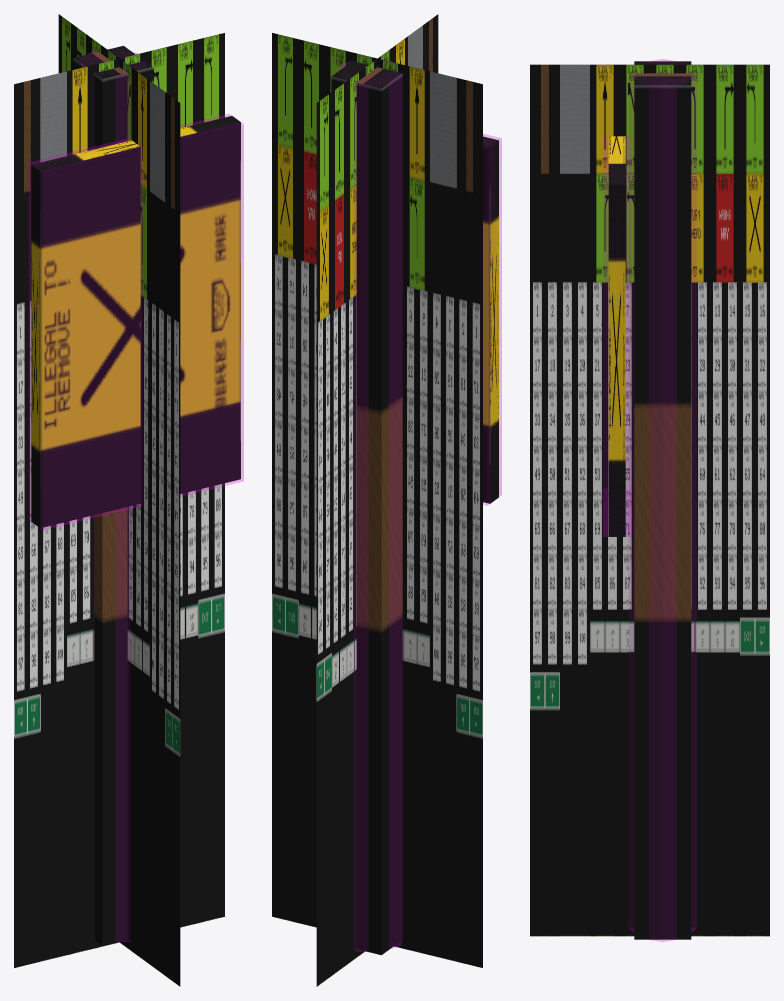
File: danger_x.dae
3 renders of one model, left to right at view 1: azimuth 30°, elevation 25°; view 2: azimuth 150°, elevation 25°; view 3: azimuth 270°, elevation 25°, orthographic.
Visible parts, largest first — view 1: danger_x_a50, danger_x_a800, Colmesh_sign-1, Colmesh_post-1, danger_x_a200; view 2: danger_x_a50, danger_x_a800, Colmesh_post-1, danger_x_a200, Colmesh_sign-1; view 3: danger_x_a50, danger_x_a800, Colmesh_post-1, Colmesh_sign-1.
Boxes of the visible parts, x1,y1,x2,y2 form: danger_x_a50: (14,14,224,986); danger_x_a800: (31,45,240,945); Colmesh_sign-1: (29,114,243,529); Colmesh_post-1: (81,49,138,941); danger_x_a200: (94,52,151,944); danger_x_a50: (272,14,482,986); danger_x_a800: (331,61,498,955); Colmesh_post-1: (339,59,402,951); danger_x_a200: (349,63,402,950); Colmesh_sign-1: (483,134,501,505); danger_x_a50: (530,64,769,936); danger_x_a800: (608,61,691,939); Colmesh_post-1: (629,59,696,941); Colmesh_sign-1: (603,137,630,536).
Bounding box in the file's own units: 0.42 × 0.42 × 1.68.
2 materials, 1 textured.
